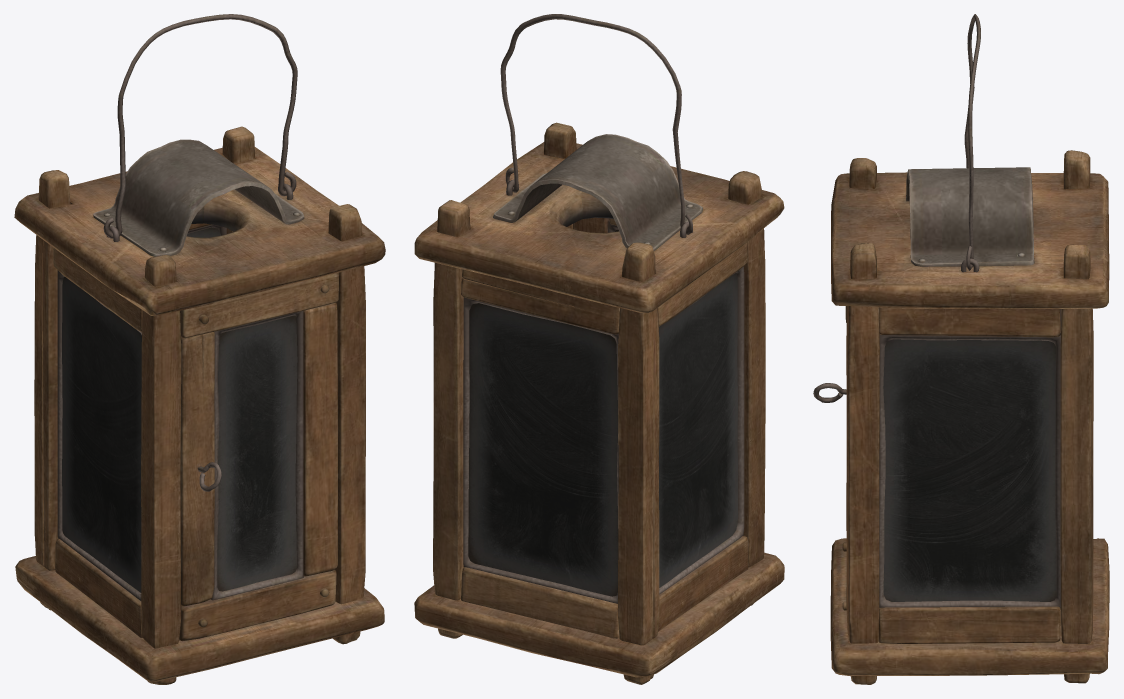
Rendered from wooden_lantern_01.glb.
3 renders of one model, left to right at view 1: azimuth 30°, elevation 25°; view 2: azimuth 150°, elevation 25°; view 3: azimuth 270°, elevation 25°, orthographic.
Visible parts, largest first — view 1: wooden_lantern_01, wooden_lantern_01_door, wooden_lantern_01_handle; view 2: wooden_lantern_01, wooden_lantern_01_handle, wooden_lantern_01_door; view 3: wooden_lantern_01, wooden_lantern_01_handle, wooden_lantern_01_door.
Boxes of the visible parts, x1,y1,x2,y2 form: wooden_lantern_01: (14, 126, 385, 684); wooden_lantern_01_door: (179, 272, 339, 641); wooden_lantern_01_handle: (103, 14, 297, 238); wooden_lantern_01: (414, 122, 784, 684); wooden_lantern_01_handle: (500, 14, 692, 234); wooden_lantern_01_door: (573, 217, 618, 233); wooden_lantern_01: (830, 150, 1109, 684); wooden_lantern_01_handle: (964, 14, 980, 270); wooden_lantern_01_door: (813, 306, 847, 610).
Size of the model in its own units: 0.221 by 0.5301 by 0.2347.
2 materials, 2 textured.
